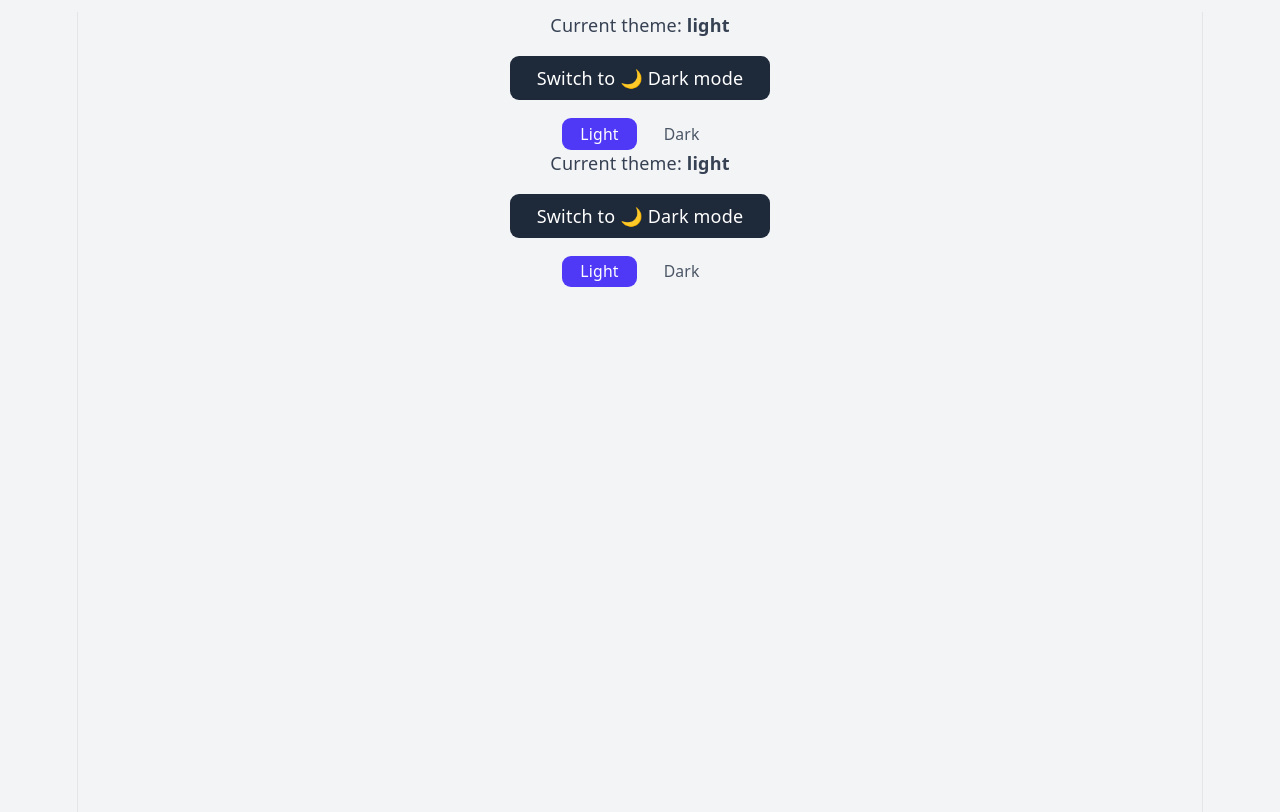
Scenario: ThemeProvider — shared state across consumers › toggling in one consumer updates all consumers
This screenshot has width=1280, height=812.
// click the first toggle button
What coordinates should you click on to do the following:
click the button with aria-label "toggle theme"
I would click on:
 (640, 78)
Its box is [510,56,770,100].
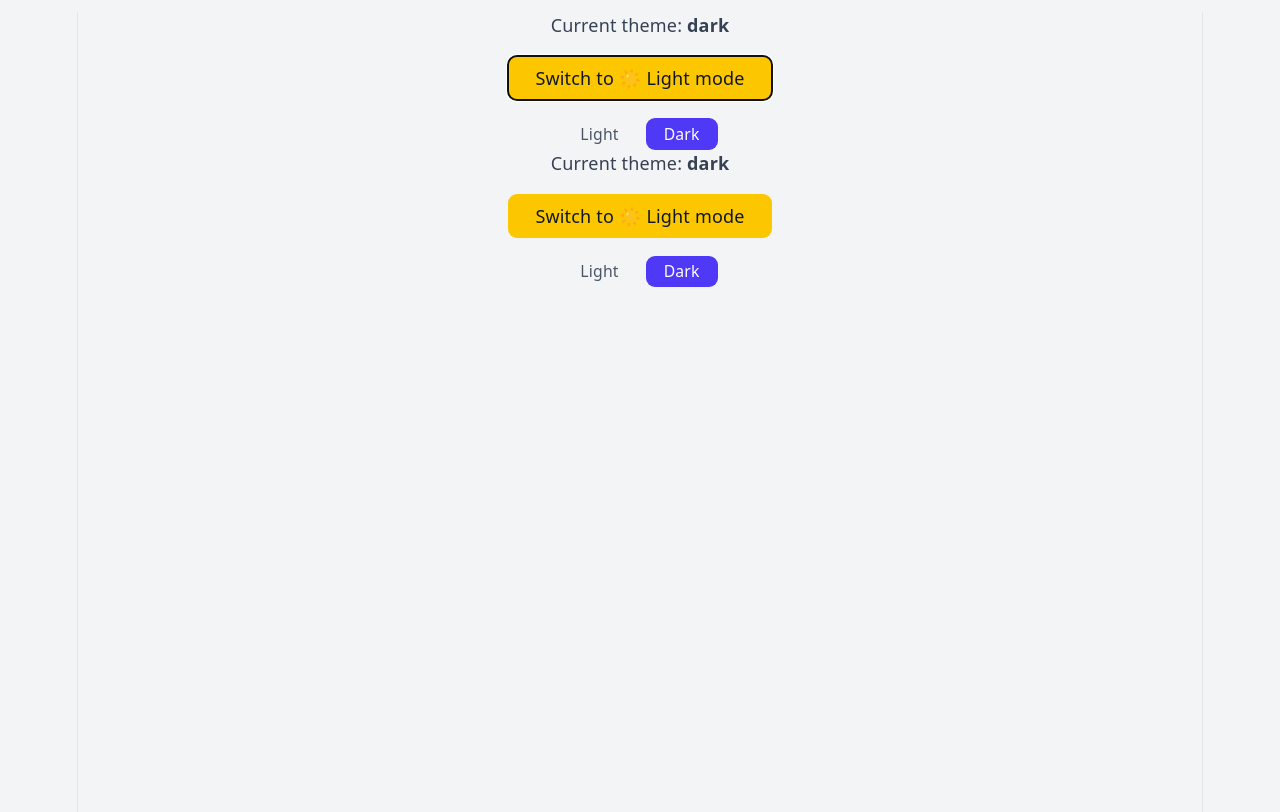
Now the 1st text with test id "theme-value" reads "dark", box [687,13,729,37]
Now the 2nd text with test id "theme-value" reads "dark", box [687,151,729,175]
